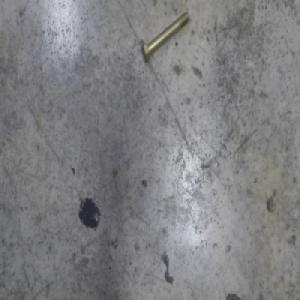Bolt: (141, 9, 190, 62)
